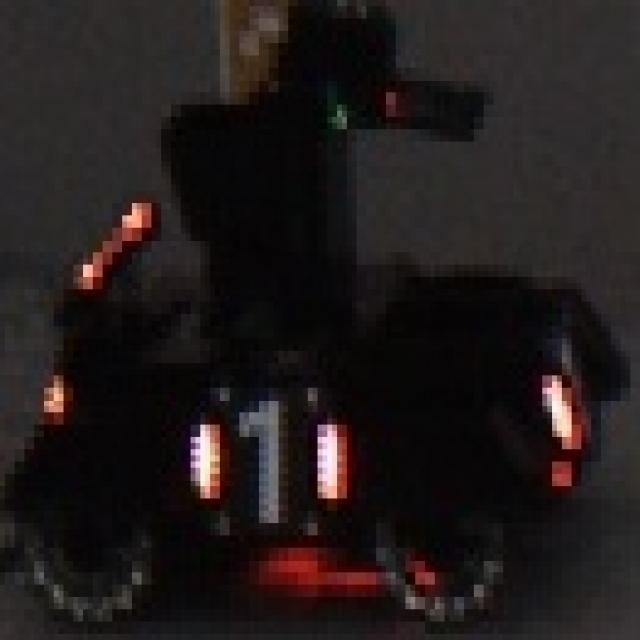R1: (186, 394, 337, 517), (537, 314, 606, 468)
